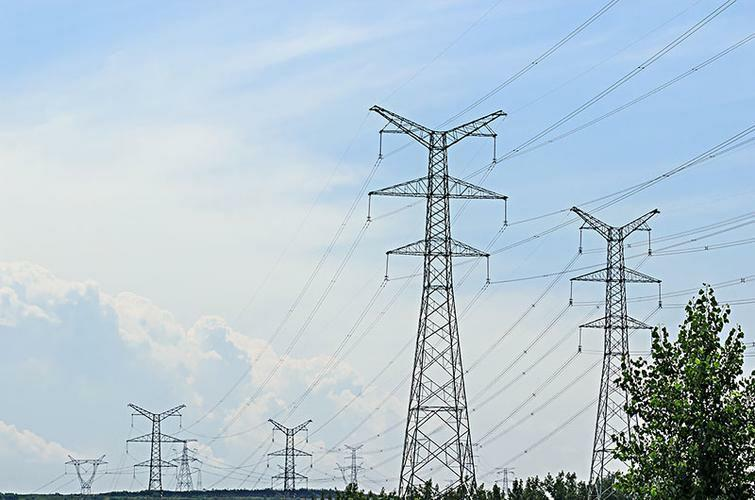power_tower: (351, 100, 510, 500), (561, 200, 666, 496), (123, 396, 191, 496), (263, 413, 315, 492), (62, 448, 113, 496), (333, 440, 379, 486)
